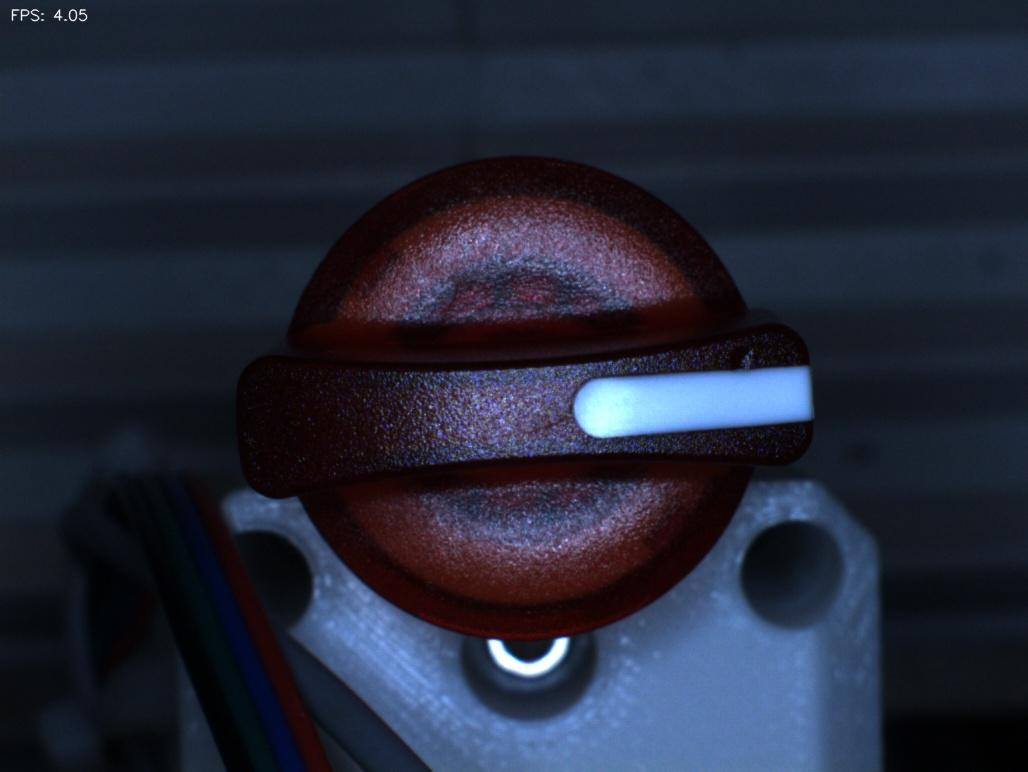Choc: (711, 323, 774, 386)
